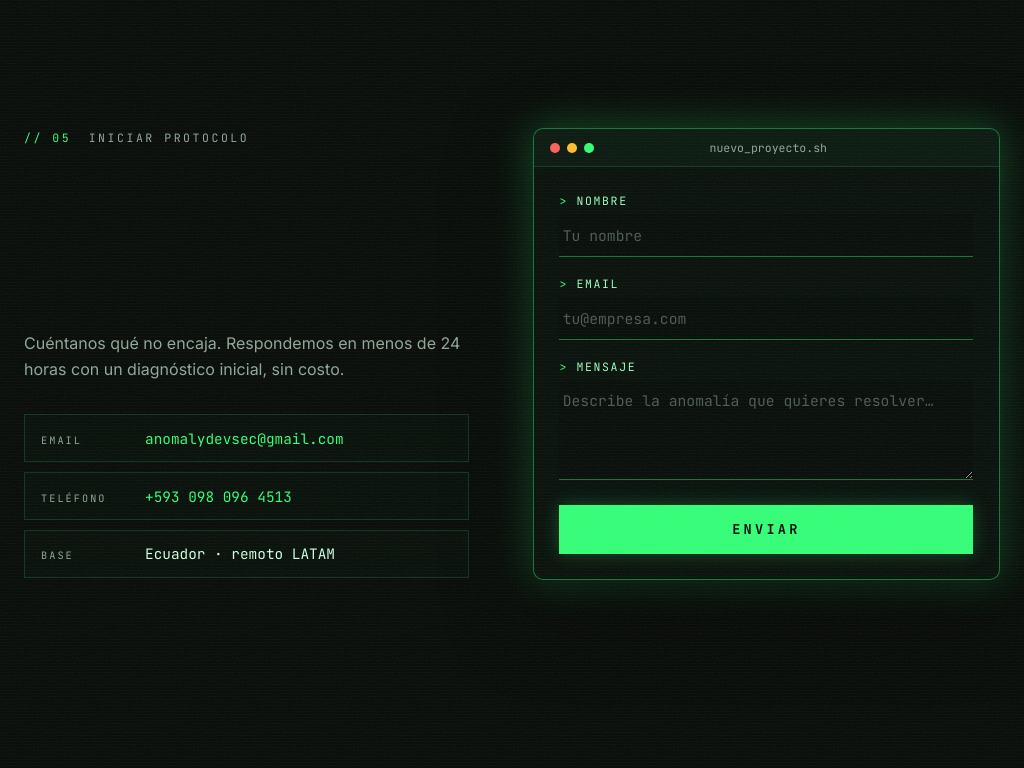
Scenario: Contact › POSTs the form to /api/contact and shows a success message
The image size is (1024, 768).
Type "Ana" into the field labelled "Nombre" at (766, 236), box [560,214,973,257]
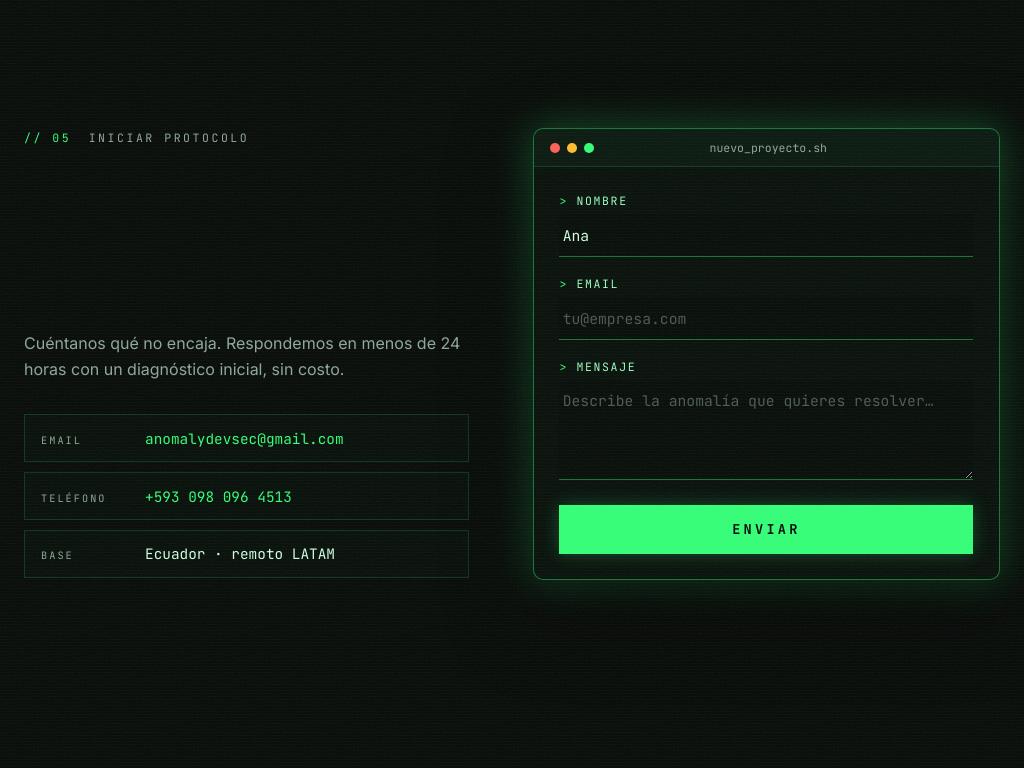
Type "ana@example.com" into the field labelled "Email" at (766, 318), box [560,297,973,340]
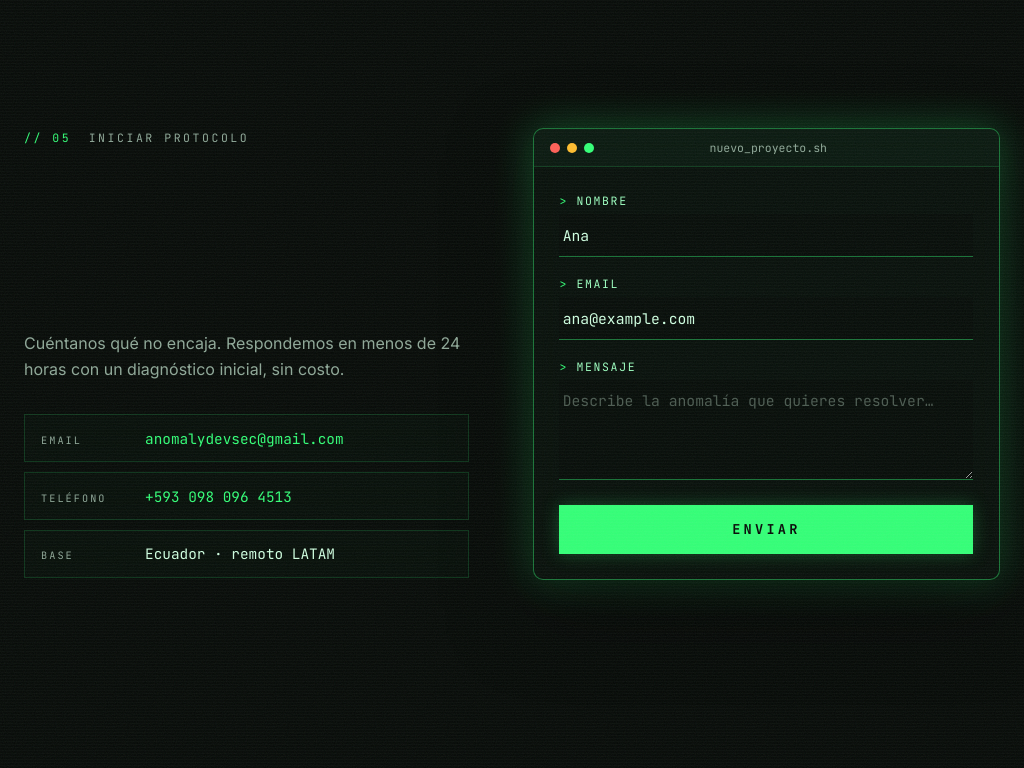
Type "Hola, quiero cotizar un proyecto." into the text box labelled "Mensaje" at (766, 430), box [560,380,973,480]
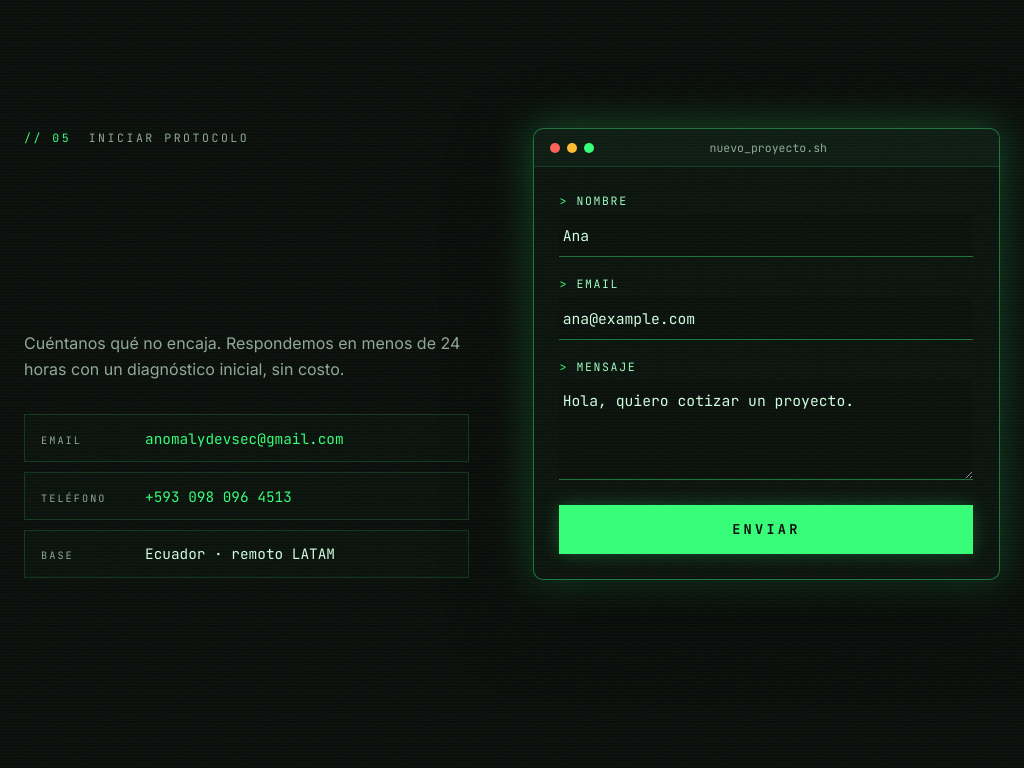
Click the button "Enviar" at (766, 529), box [560,505,973,554]
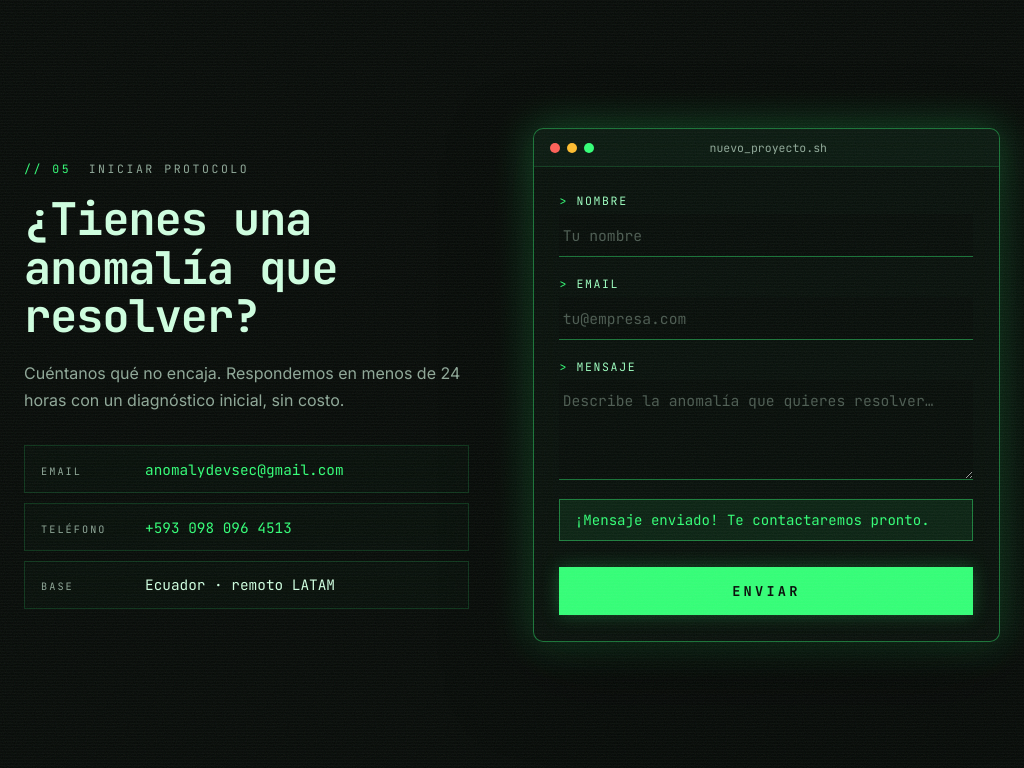
Result: the message shows "¡Mensaje enviado!" at [575,511,930,529]
Result: the field labelled "Nombre" is empty at [560,214,973,257]
